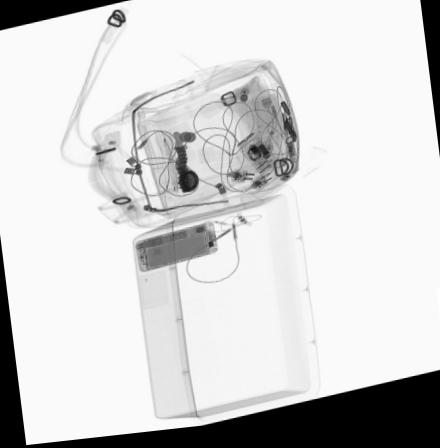Lighter: (288, 146, 296, 170)
